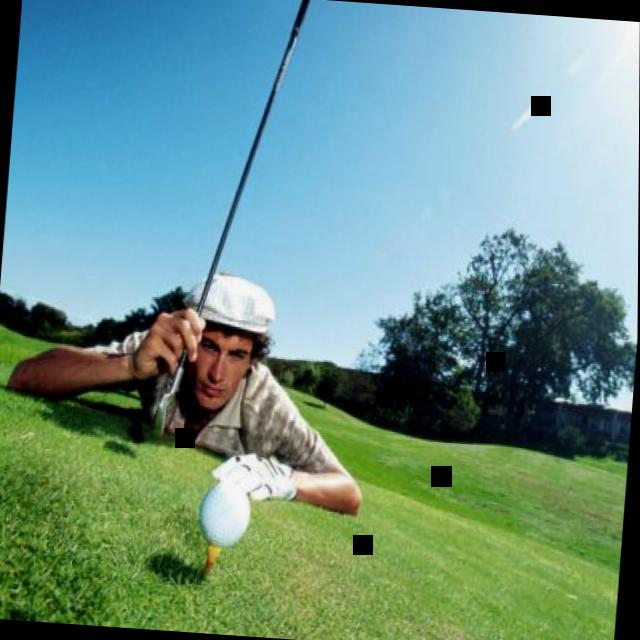Fall-Detected: (0, 222, 375, 554)
